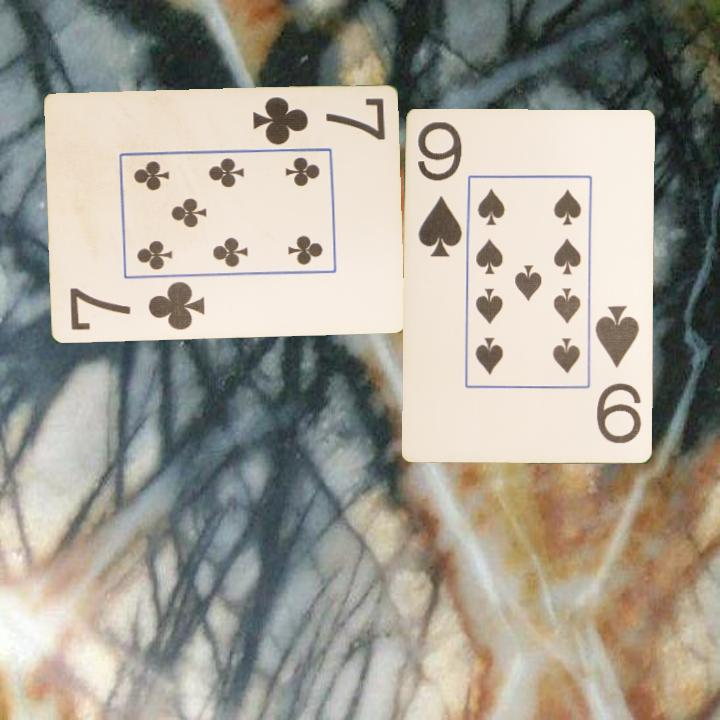7c: (65, 278, 208, 334), (249, 94, 388, 148)
9s: (591, 302, 645, 447), (415, 119, 466, 261)
